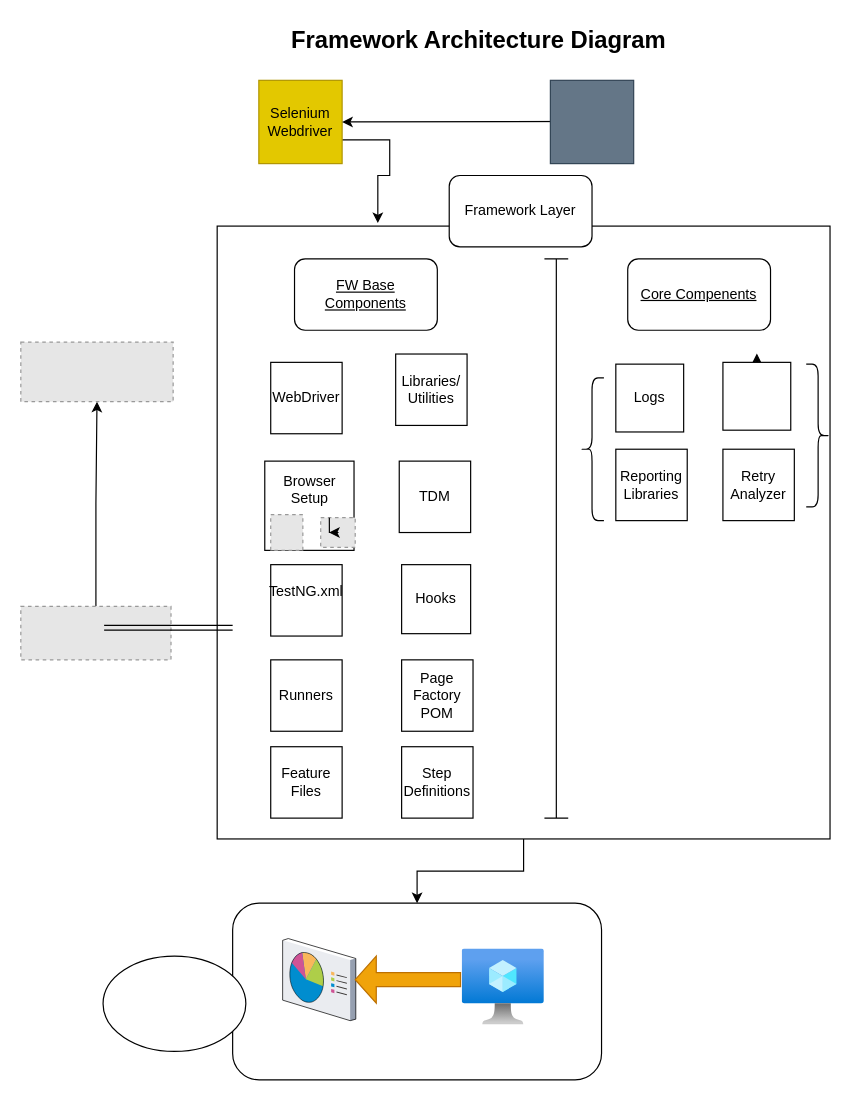
The diagram is 851 pixels wide and 1101 high, and some of its shapes have lost their labels. Grey dashed boxes stand in for pictures. Each missing label, with the box of its shape:
Maven: (549, 79, 634, 164)
POM.xml: (722, 361, 791, 430)
Test Execution: (102, 955, 246, 1051)
